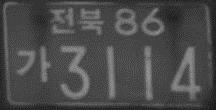1: (141, 42, 157, 102), (104, 43, 118, 100)
3: (58, 43, 89, 100)
4: (168, 44, 201, 103)
6: (140, 7, 164, 37)
8: (114, 6, 139, 38)
가: (15, 43, 52, 85)
전북_O: (47, 6, 104, 35)
